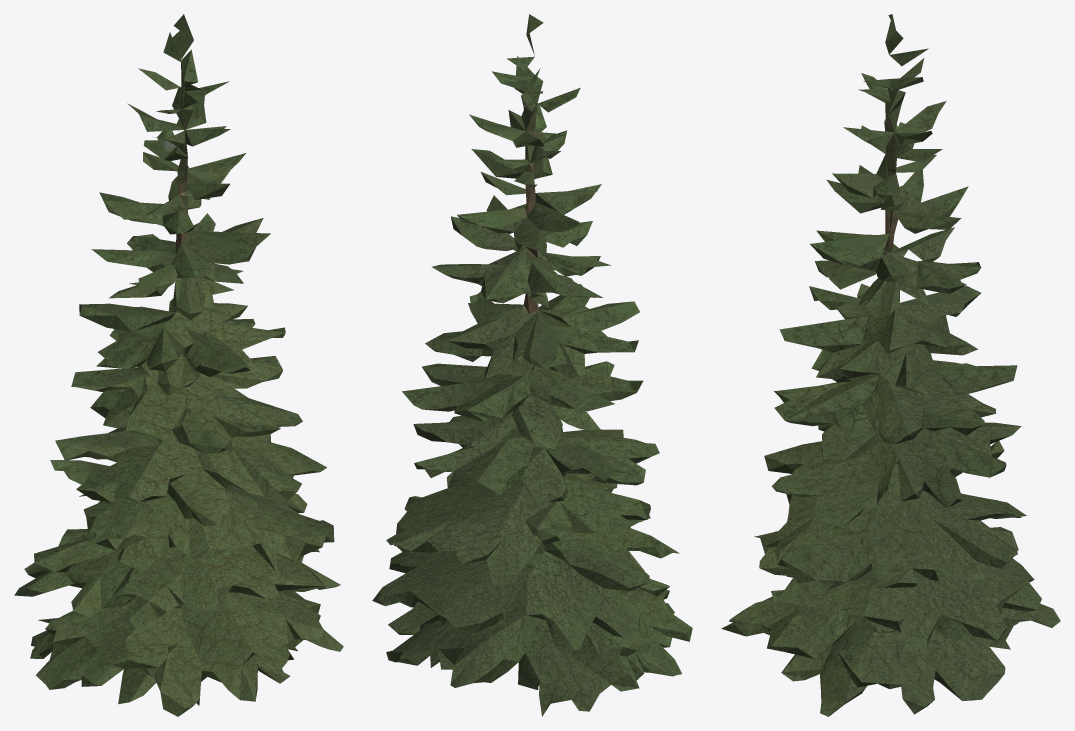
The model's file is tree_pine.glb.
The picture shows the model from 3 angles, left to right: view 1: azimuth 30°, elevation 25°; view 2: azimuth 150°, elevation 25°; view 3: azimuth 270°, elevation 25°; orthographic projection.
Size of the model in its own units: 0.7064 by 1.63 by 0.7484.
Materials: 1 (1 with a texture image).
